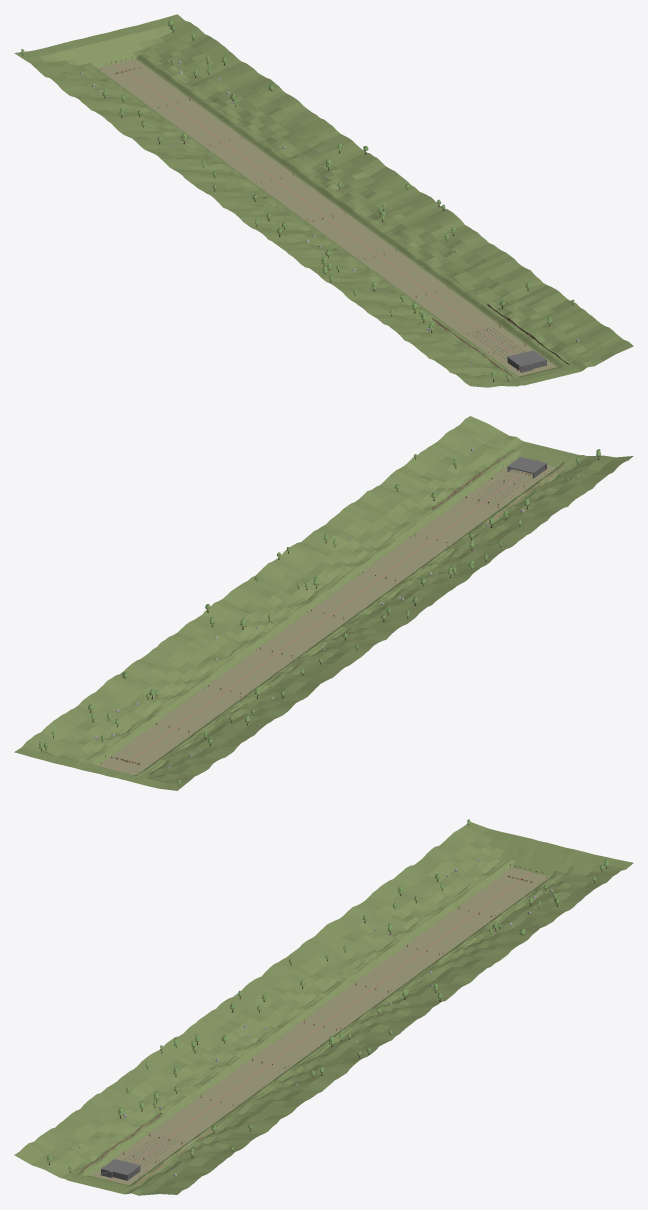
The picture shows the model from 3 angles, top to bottom: view 1: azimuth 30°, elevation 25°; view 2: azimuth 150°, elevation 25°; view 3: azimuth 330°, elevation 25°; orthographic projection.
Visible parts, largest first — view 1: Ground, Road; view 2: Ground, Road; view 3: Ground, Road.
Part boxes in pixels (box(x1,y1,x2,y2)): Ground: box(14, 14, 633, 387); Road: box(115, 63, 538, 372); Ground: box(14, 416, 633, 790); Road: box(116, 471, 526, 771); Ground: box(14, 822, 633, 1195); Road: box(109, 871, 532, 1180).
Bounding box in the file's own units: 183 × 24.91 × 885.
